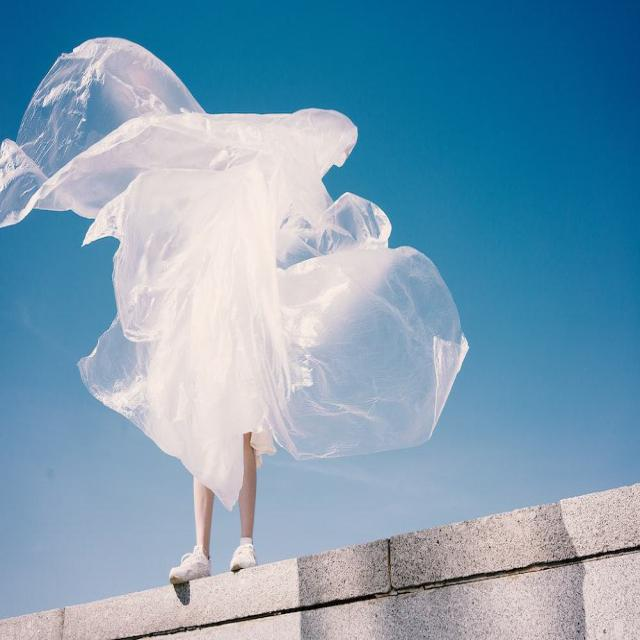plastic: (29, 34, 470, 499)
